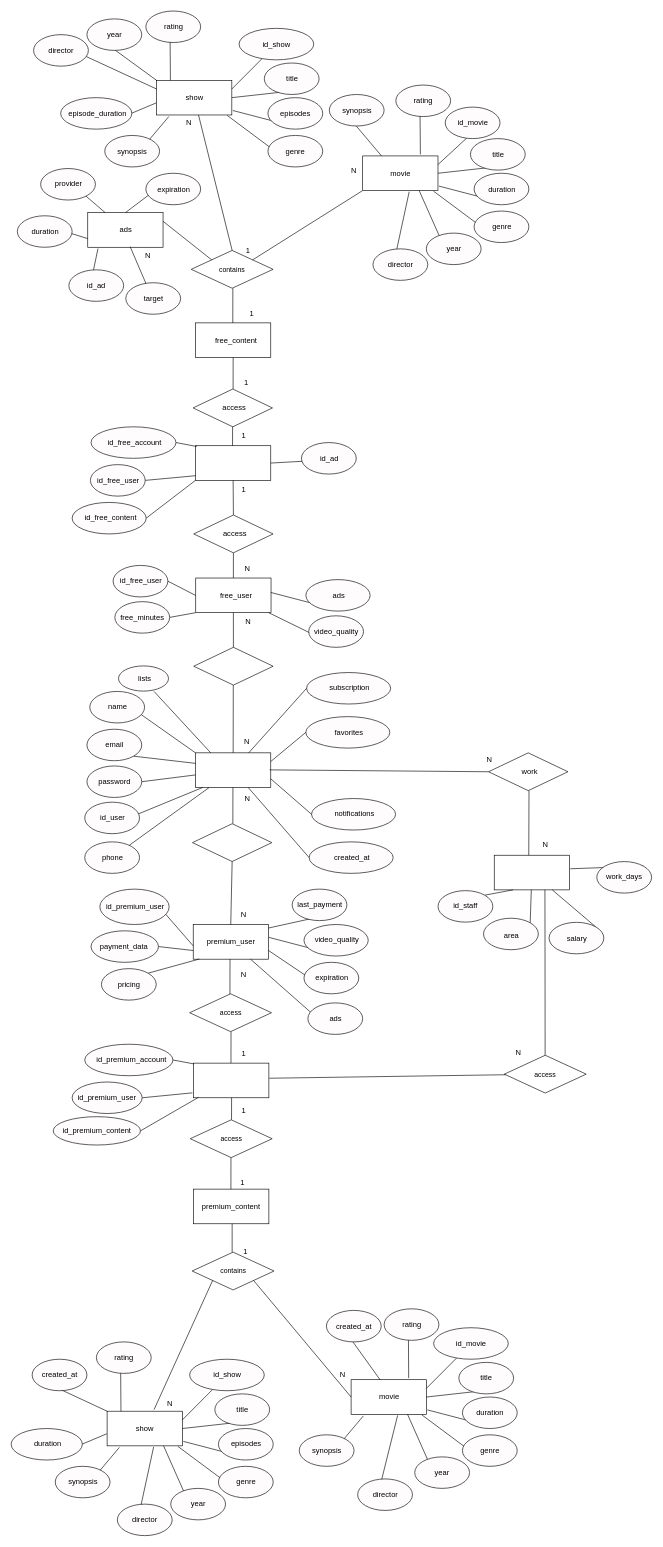
This 663x1547 diagram has some shape labels left out. The shapes that lost their labels are listed below. From the top down, each one's centre as x and y in pixels, then its label:
(233,462): free_account
(233,666): not_subscribed
(233,770): user
(232,842): subscribed
(532,872): staff
(231,1080): premium_account
